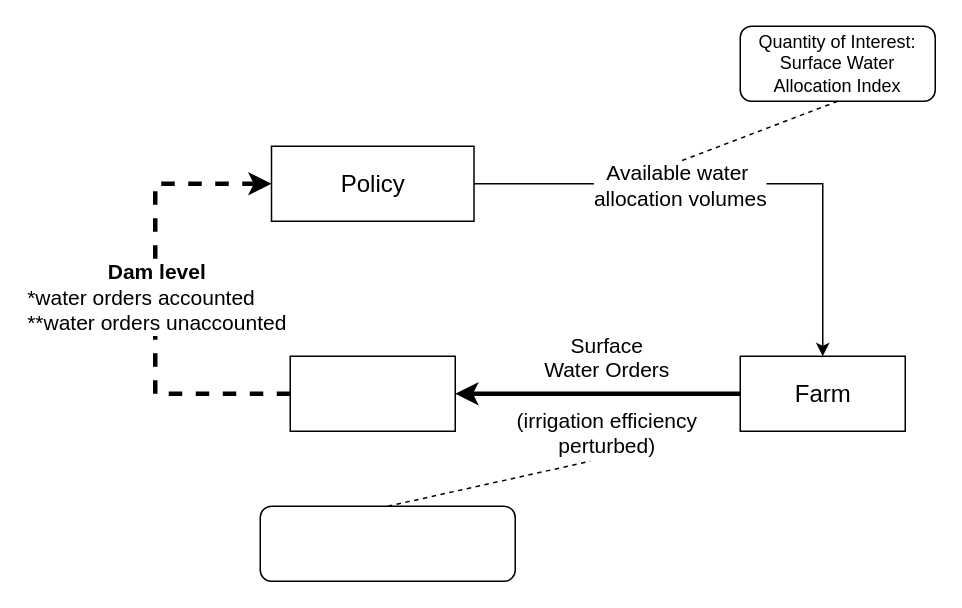
Image size: 962x608. Some labels were removed from this diagram. The centre of each missing label's shape, as x and y in pixels:
"Parameter of interest: Irrigation Efficiency" goes at point (387, 543).
"Surface Water" goes at point (372, 393).
